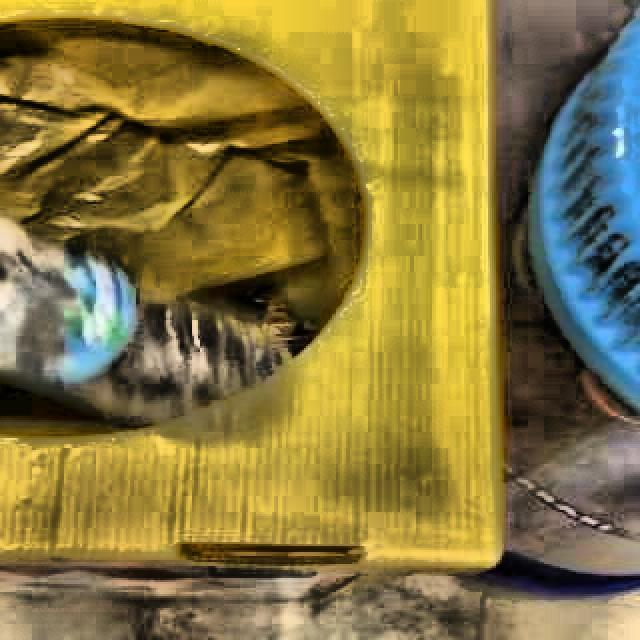plastic: (0, 219, 285, 425)
